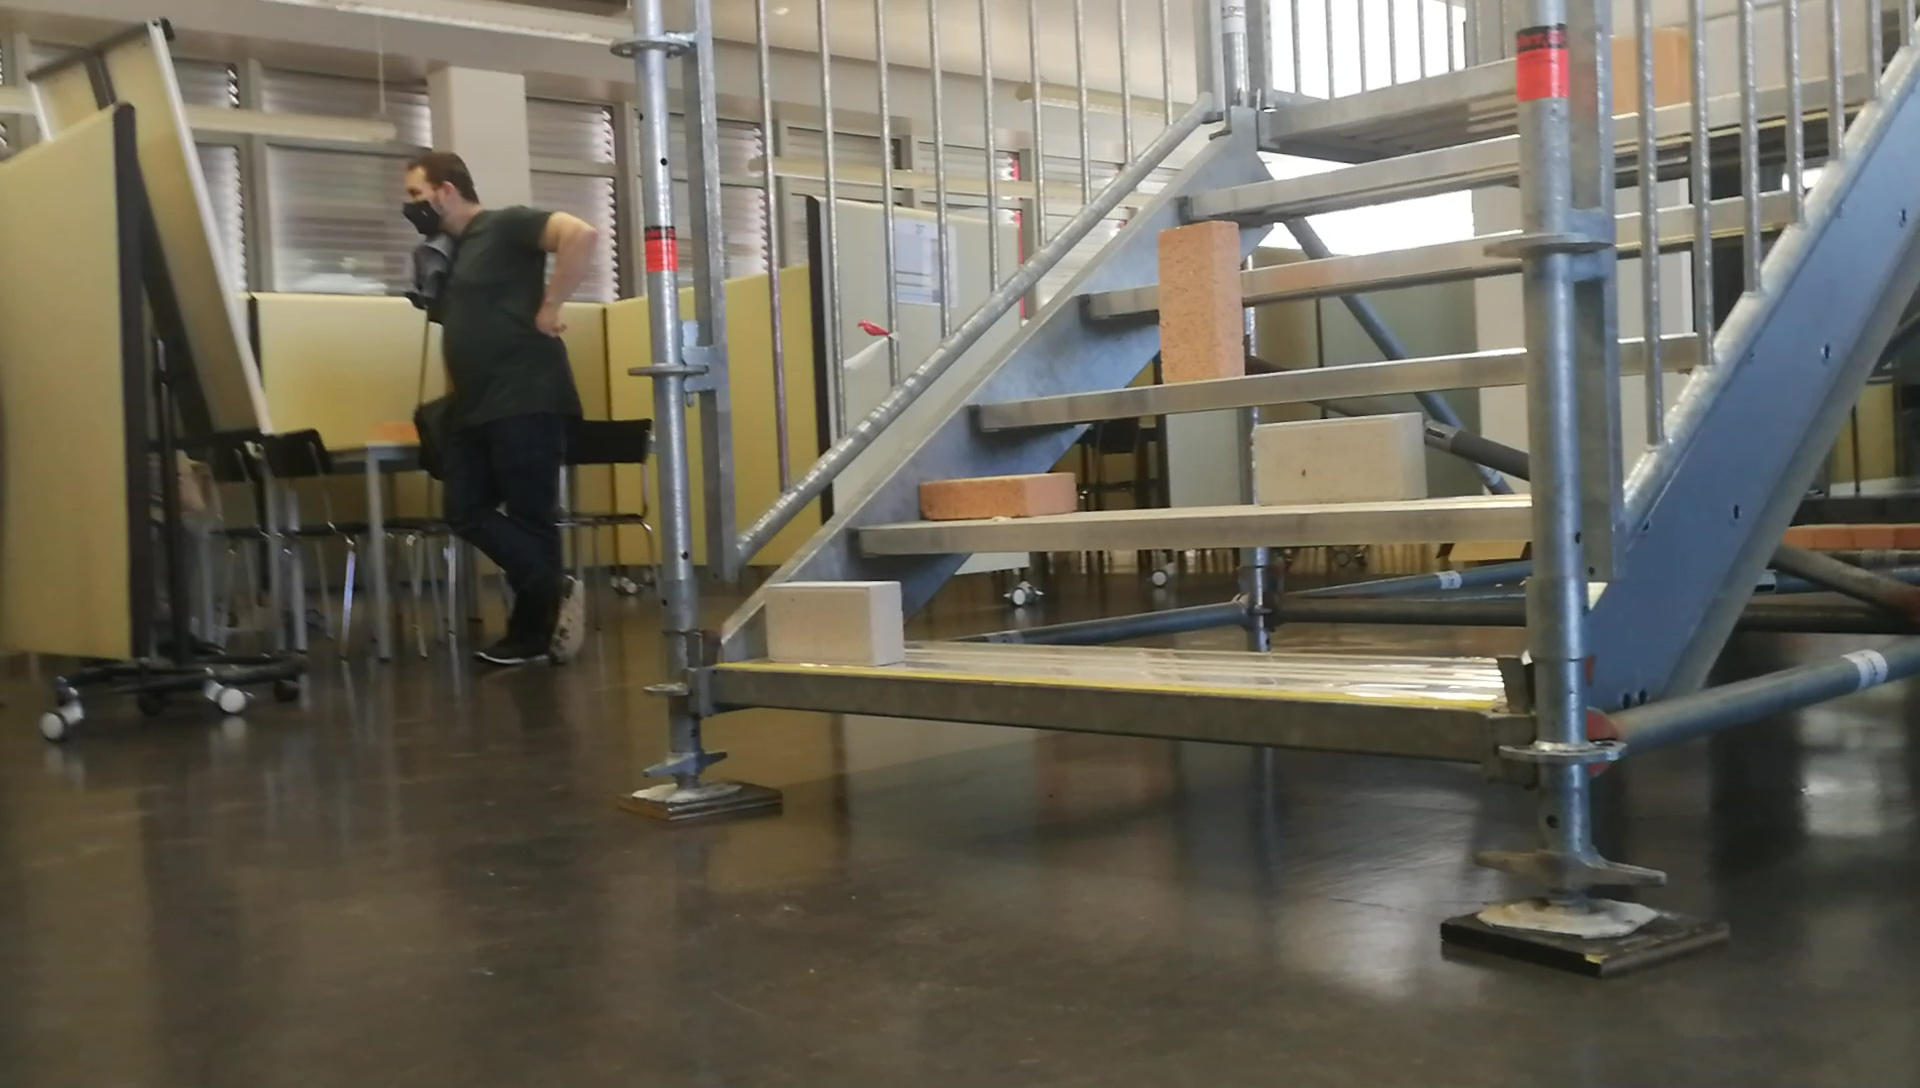brick: (1253, 415, 1423, 502), (1160, 220, 1244, 380), (767, 580, 899, 659), (923, 473, 1075, 514)
edge: (712, 669, 1491, 765), (855, 506, 1538, 555)
stairs: (608, 3, 1602, 977)
